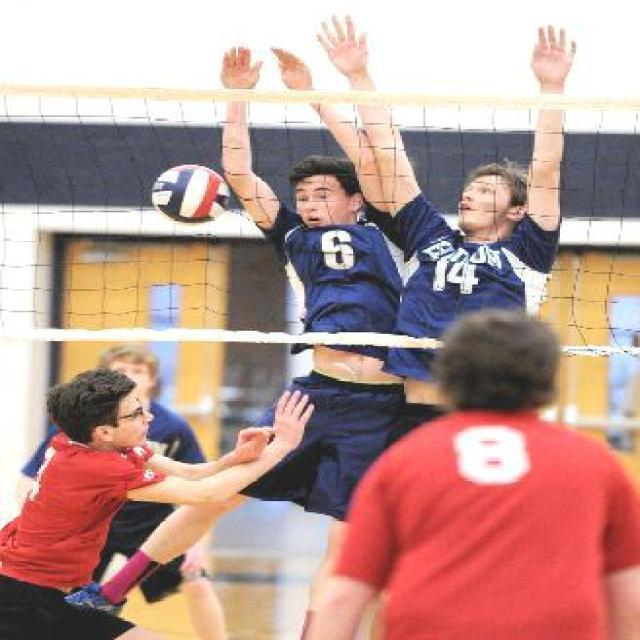volleyball: (150, 163, 232, 225)
